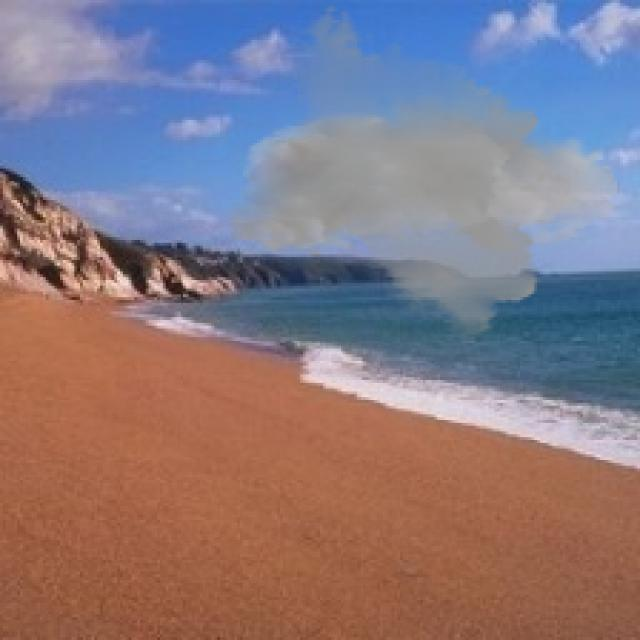smoke: (226, 3, 620, 346)
